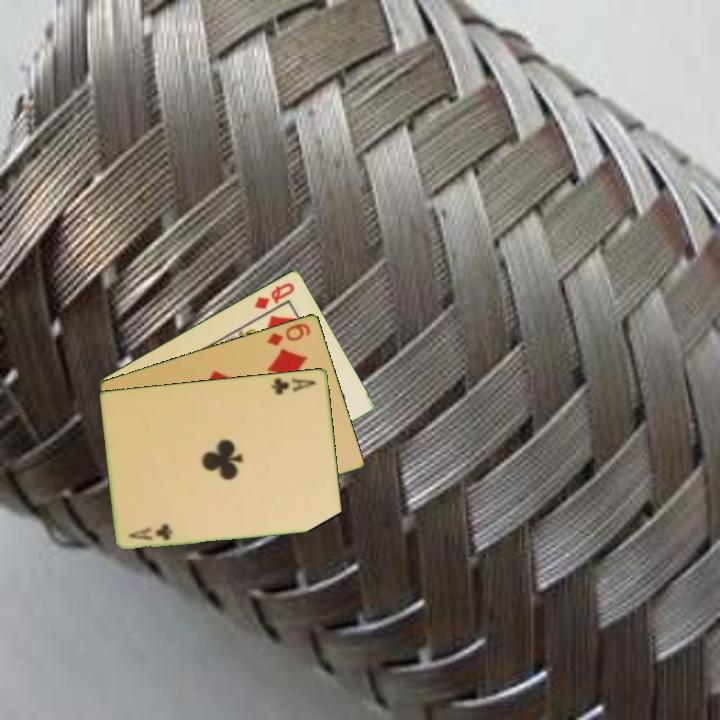6d: (264, 319, 314, 348)
Ac: (268, 374, 319, 397), (125, 520, 176, 543)
Qd: (250, 279, 298, 312)
